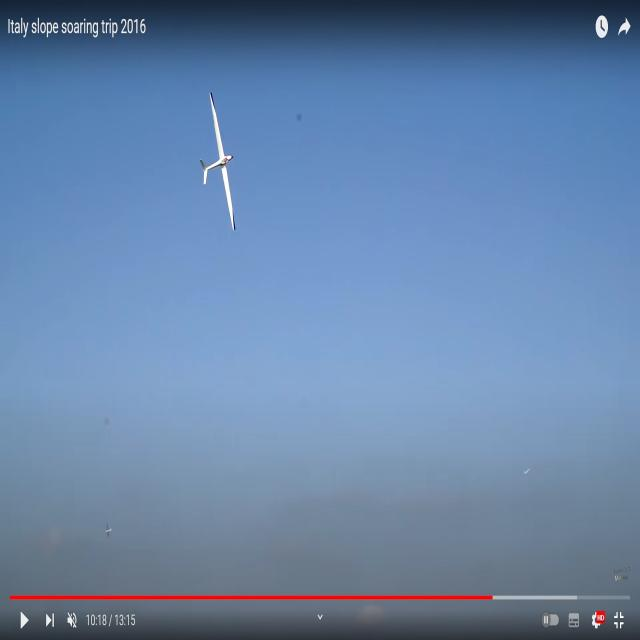iha: (201, 96, 239, 225)
